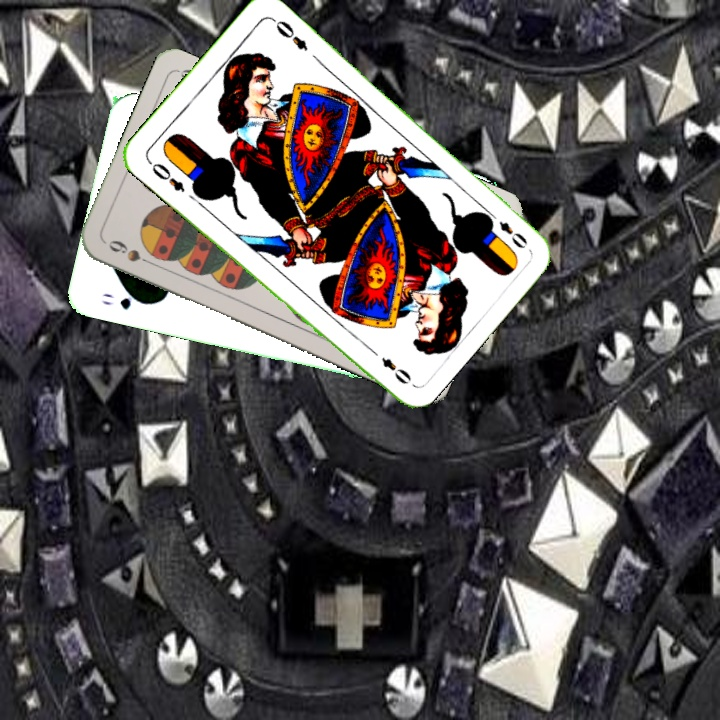EO: (483, 207, 530, 252), (144, 156, 188, 195)
GO: (98, 289, 151, 313)
S9: (105, 236, 158, 269)
